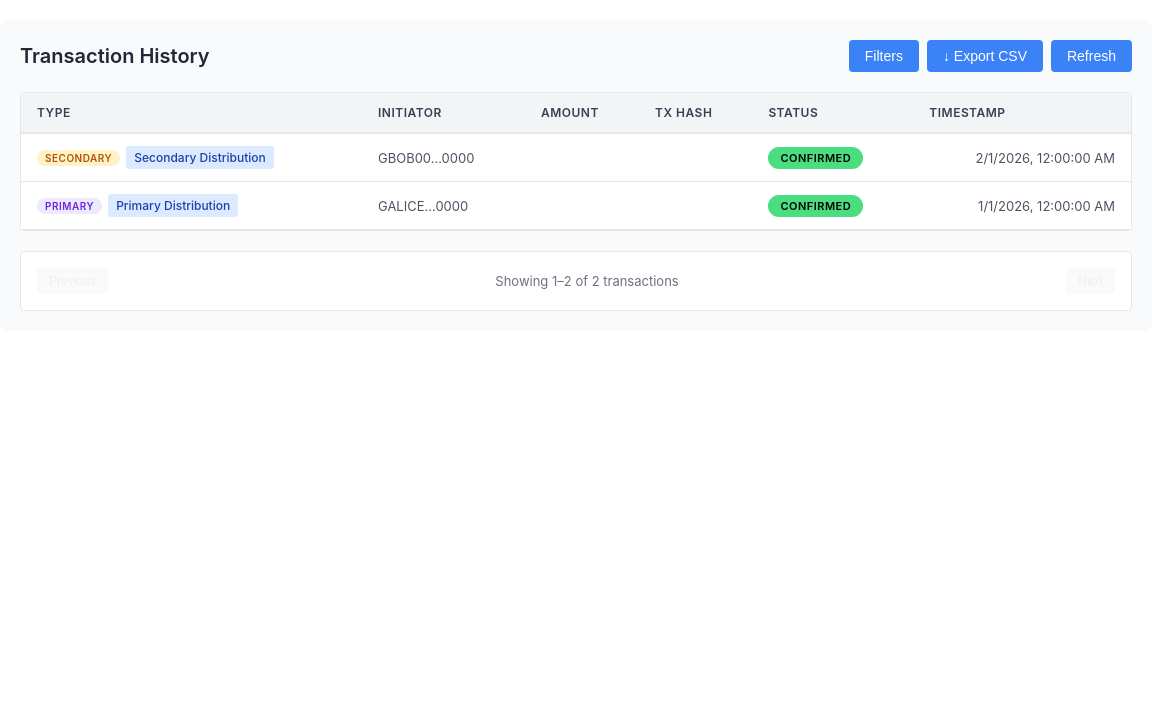
it: TransactionHistory filtering and search (#754) › filters displayed rows by collaborator address search
Expected: the text "Showing 1–2 of 2 transactions" is shown, 495,273 -> 679,289
Click the button "Filters".
click(884, 56)  # box 849,40 -> 919,72
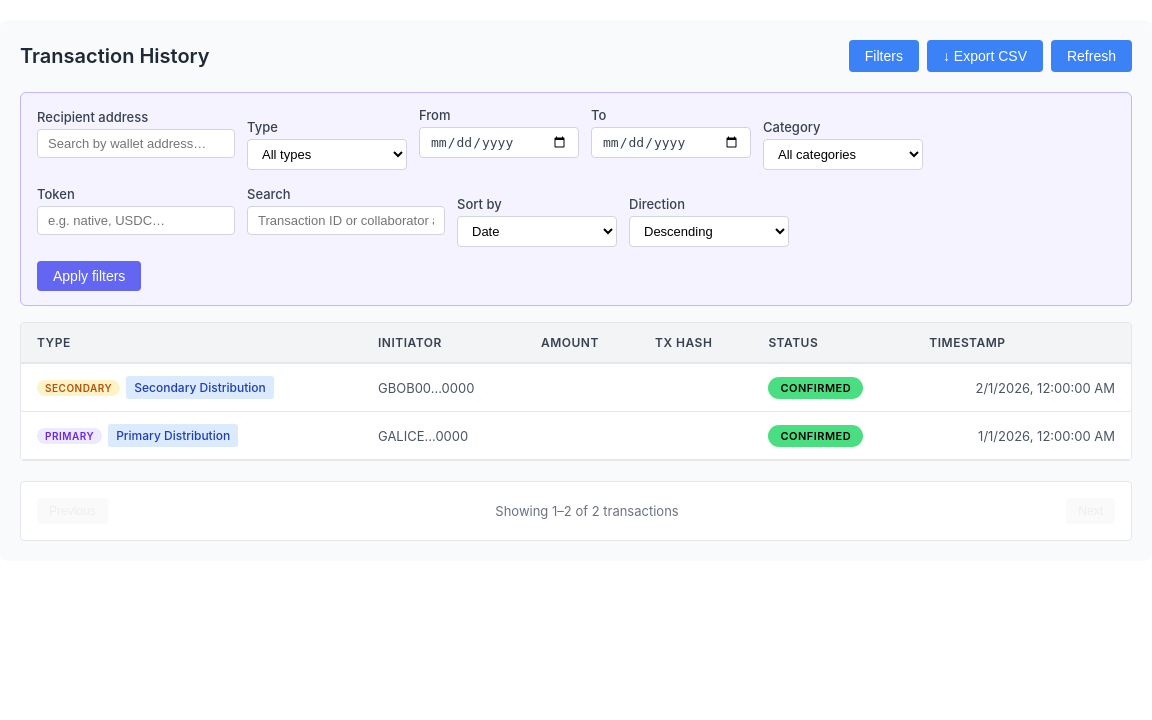
Type "GBOB" into the field named "Search by transaction ID or collaborator address".
click(346, 220); type("GBOB")  # box 247,206 -> 445,235
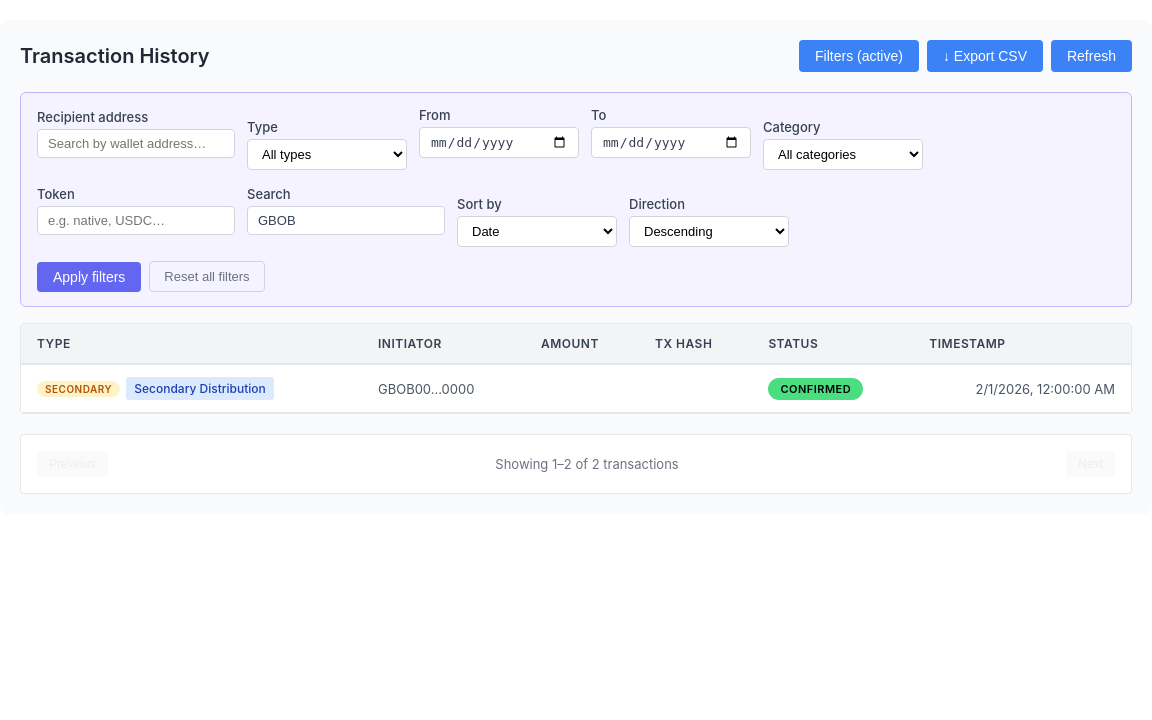
Expected: the cell titled "GBOB0000000000000000000000000000000000000000000" is shown, 362,364 -> 525,412
Result: the cell titled "GALICE0000000000000000000000000000000000000000" is gone
